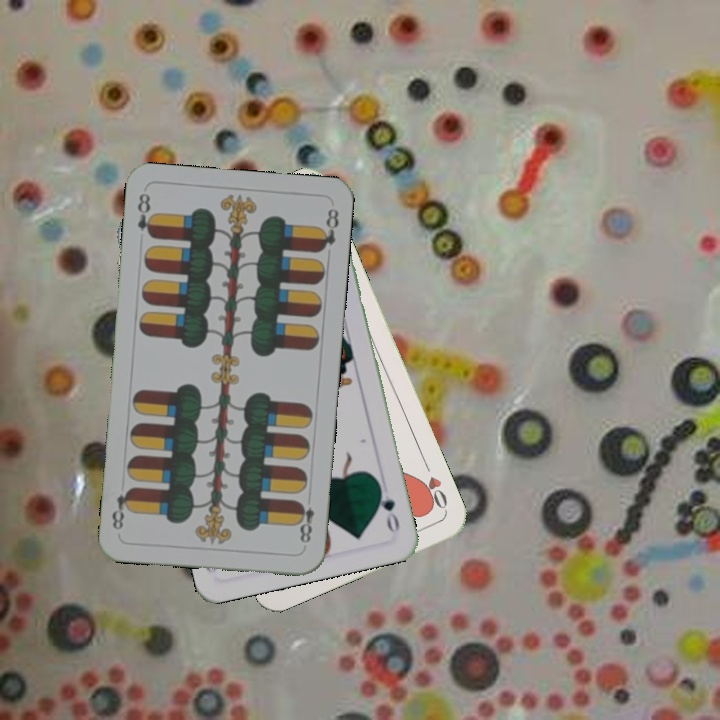E8: (133, 189, 158, 240), (292, 497, 317, 546)
GO: (374, 479, 402, 535)
HO: (415, 458, 451, 514)
